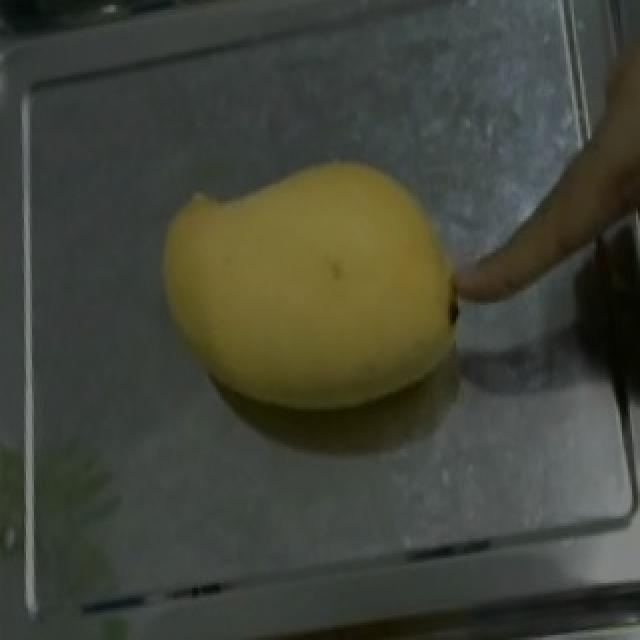fruit: (138, 117, 504, 454)
